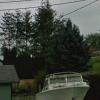Boat: (28, 68, 99, 100)
